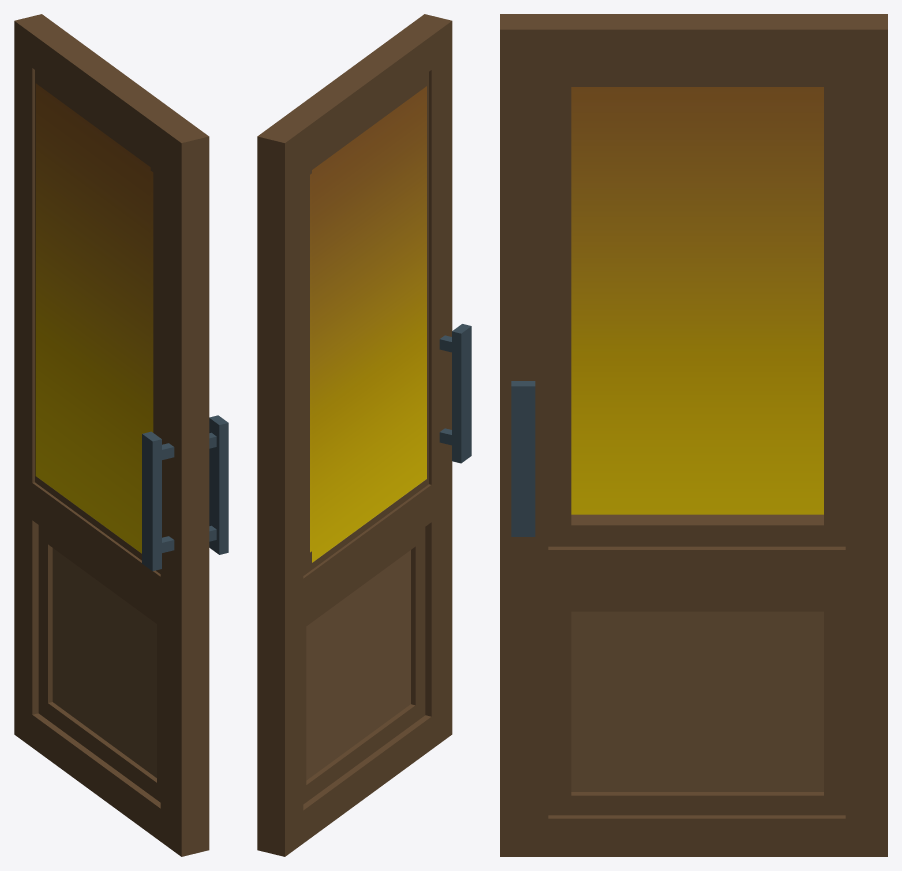
The model's file is SM_Buildings_House_14_Door_R.fbx.
3 views of the same model, side by side, from view 1: azimuth 30°, elevation 25°; view 2: azimuth 150°, elevation 25°; view 3: azimuth 270°, elevation 25° (orthographic). The views are drawn at different scales.
Parts seen in each view (by area): view 1: SM_Buildings_House_14_Door_R; view 2: SM_Buildings_House_14_Door_R; view 3: SM_Buildings_House_14_Door_R.
Boxes of the visible parts, bbox=[...] form: SM_Buildings_House_14_Door_R: bbox=[14, 14, 228, 856]; SM_Buildings_House_14_Door_R: bbox=[257, 14, 471, 856]; SM_Buildings_House_14_Door_R: bbox=[500, 14, 887, 856].
Size of the model in its own units: 0.2336 by 2.09 by 0.8881.
